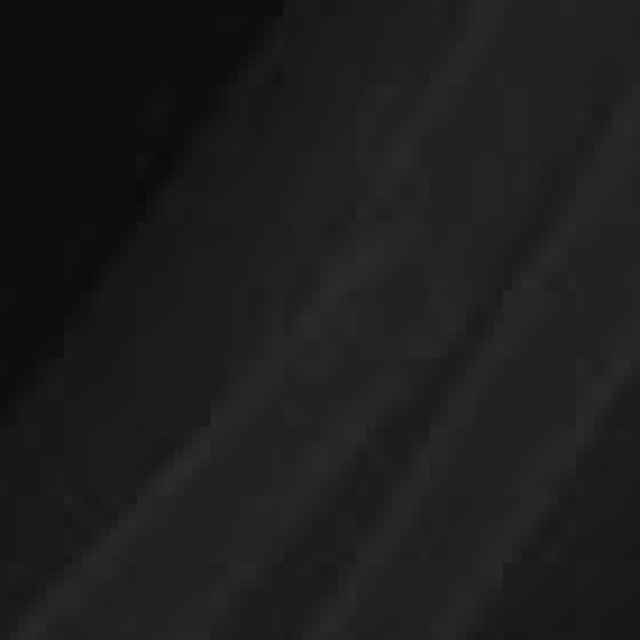fracture: (1, 5, 640, 640)
